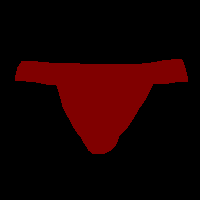mutande: (14, 59, 188, 154)
